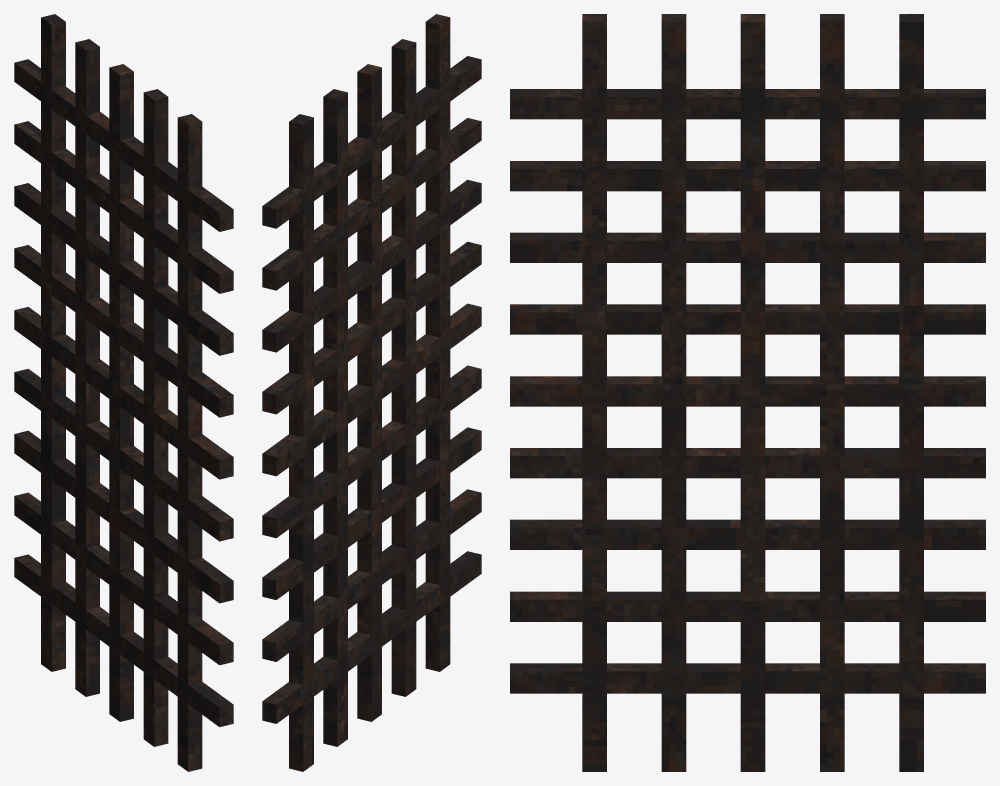
File: metalgrid.fbx
3 views of the same model, side by side, from view 1: azimuth 30°, elevation 25°; view 2: azimuth 150°, elevation 25°; view 3: azimuth 270°, elevation 25° (orthographic). The views are drawn at different scales.
Parts seen in each view (by area): view 1: Cube.014; view 2: Cube.014; view 3: Cube.014.
Part boxes in pixels (bbox=[...]): Cube.014: bbox=[14, 14, 233, 771]; Cube.014: bbox=[262, 14, 481, 771]; Cube.014: bbox=[510, 14, 985, 771].
Size of the model in its own units: 42.91 by 1882 by 1082.
